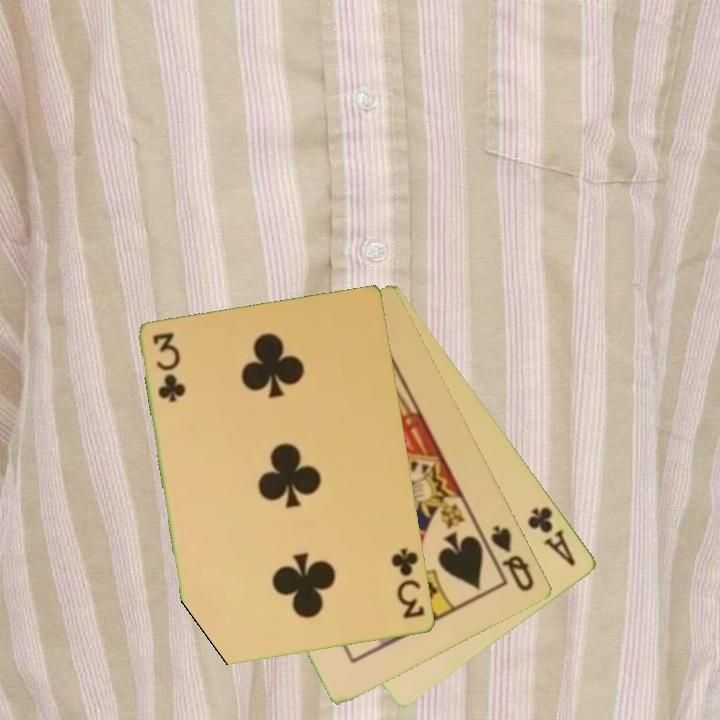3c: (388, 544, 428, 622), (149, 329, 186, 406)
Ac: (524, 503, 580, 570)
Qs: (487, 522, 538, 595)
